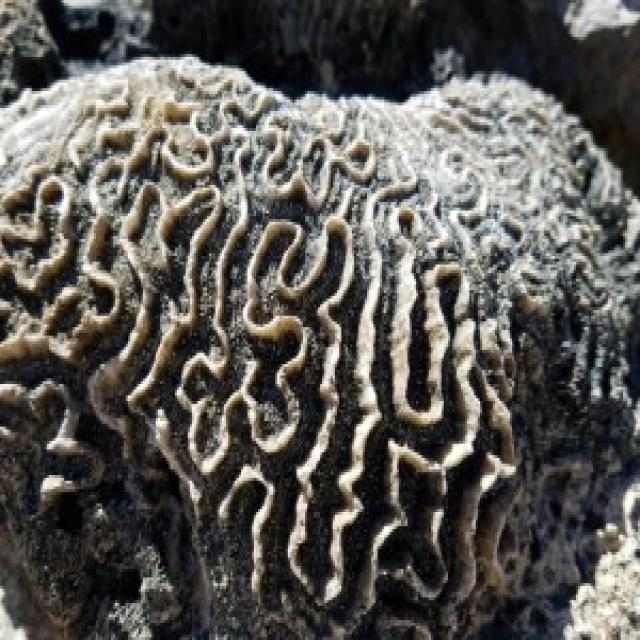Bleached: (1, 57, 640, 283), (531, 500, 640, 640), (558, 2, 640, 47)
